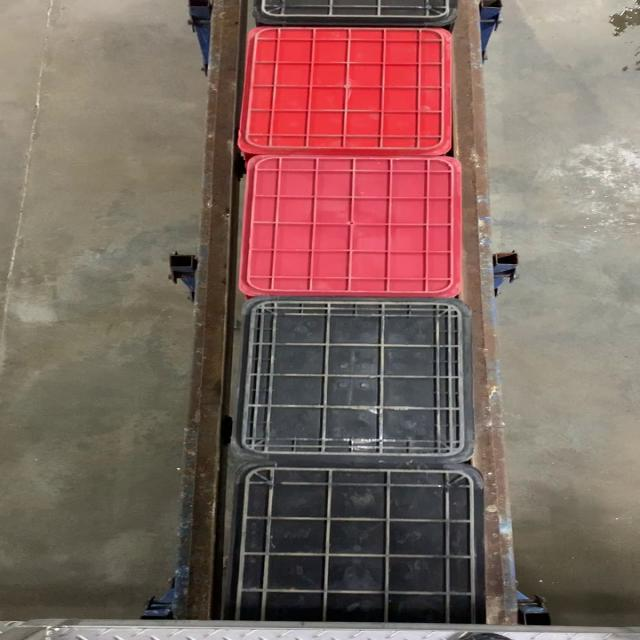Box: (234, 297, 474, 463), (239, 155, 466, 295), (234, 22, 452, 154)
